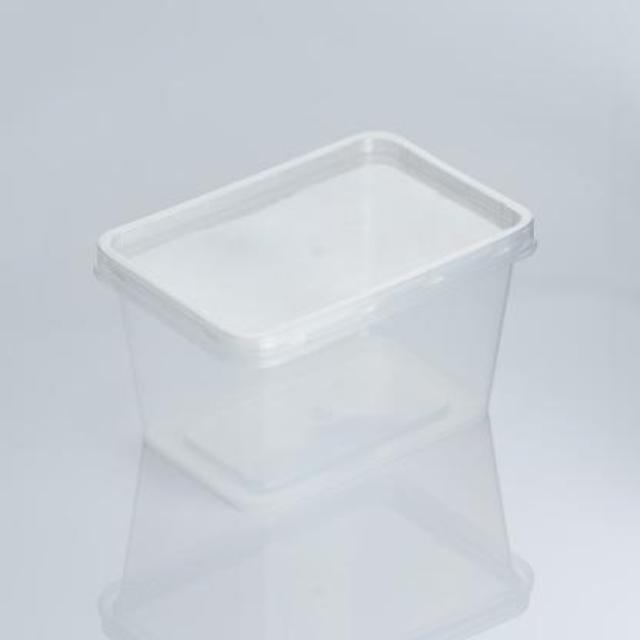plastic_box: (95, 129, 542, 516)
